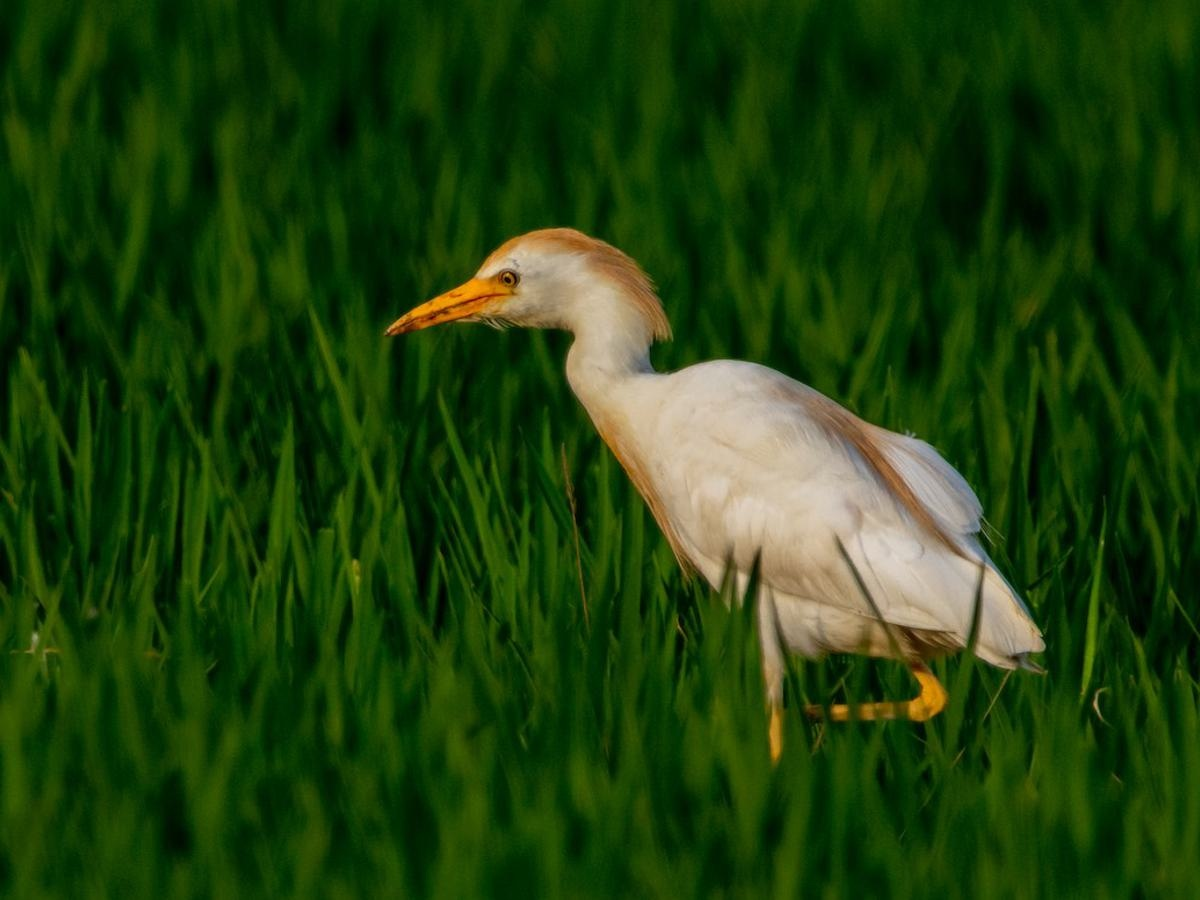egret: (383, 216, 1028, 747)
